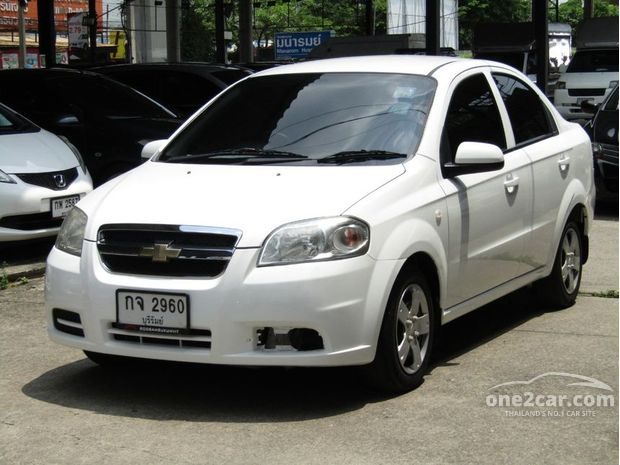sedan: (42, 53, 596, 391)
